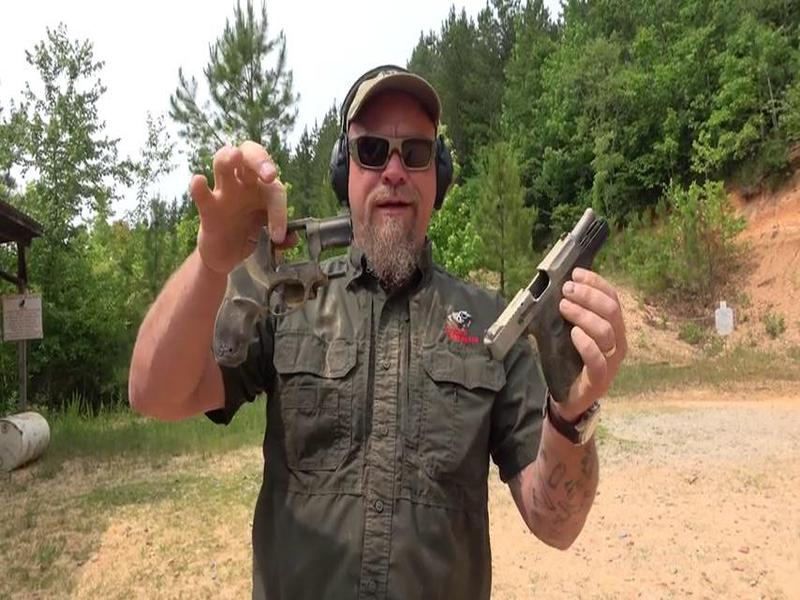Pistola: (455, 194, 652, 424)
Revolver: (180, 198, 371, 392)
